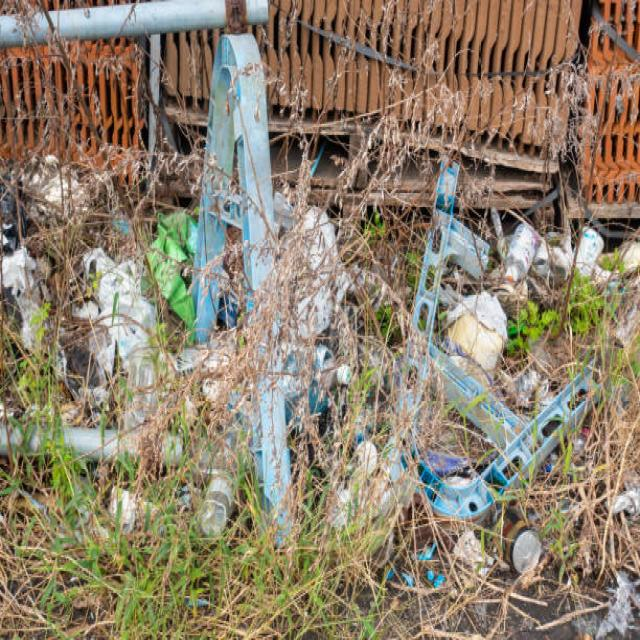plastic: (69, 324, 527, 536)
